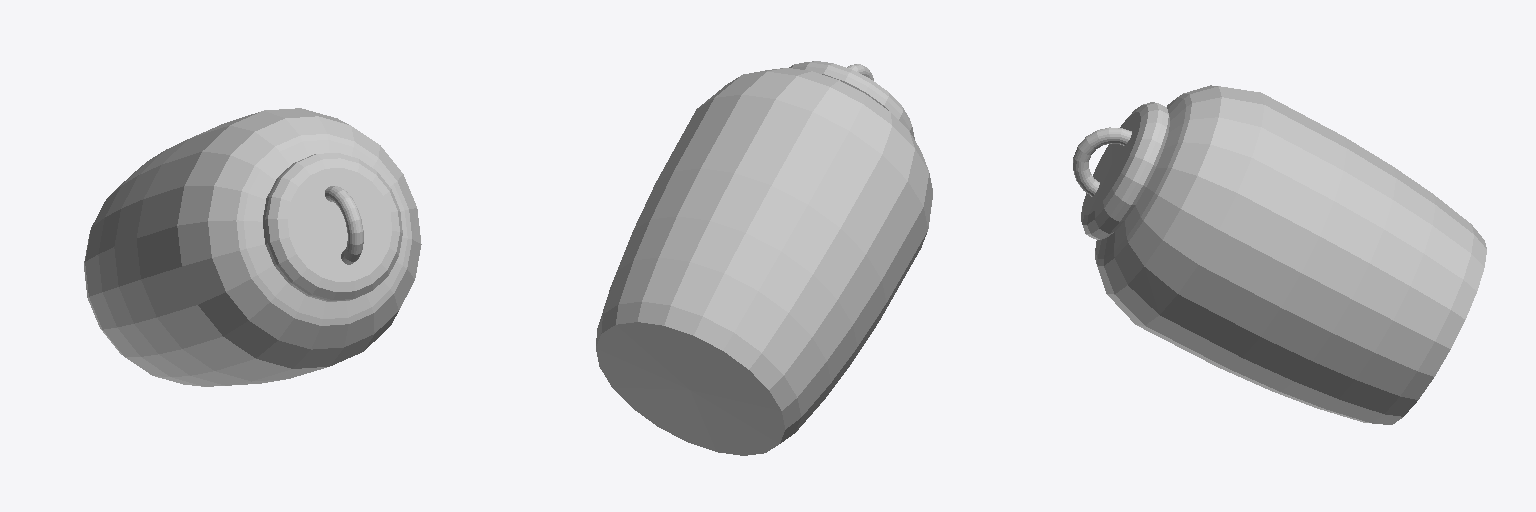
Rendered from Urn_shooting_7.obj.
The picture shows the model from 3 angles: view 1: azimuth 30°, elevation 25°; view 2: azimuth 150°, elevation 25°; view 3: azimuth 270°, elevation 25°; orthographic projection.
Parts seen in each view (by area): view 1: Undertaker_4:Undertaker_4:Urn; view 2: Undertaker_4:Undertaker_4:Urn; view 3: Undertaker_4:Undertaker_4:Urn.
Boxes of the visible parts, x1,y1,x2,y2 form: Undertaker_4:Undertaker_4:Urn: [84, 108, 421, 386]; Undertaker_4:Undertaker_4:Urn: [596, 61, 932, 455]; Undertaker_4:Undertaker_4:Urn: [1073, 85, 1486, 424].
Size of the model in its own units: 0.4718 by 0.6233 by 0.7371.